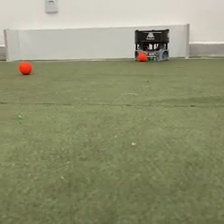ball: (18, 60, 33, 74), (137, 51, 148, 62)
goal: (2, 19, 191, 64)
robot: (133, 26, 171, 62)
